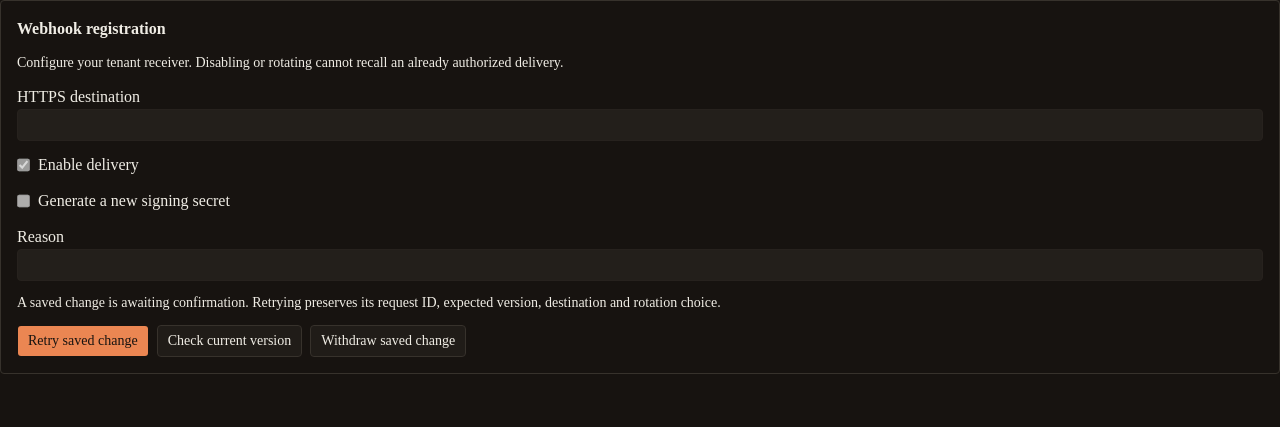
it: keeps an uncertain command when the current version has not advanced
Expected: the button "Retry saved change" is enabled, [17,325,149,357]
Click the button "Check current version".
click(229, 341)  # box [157,325,302,357]
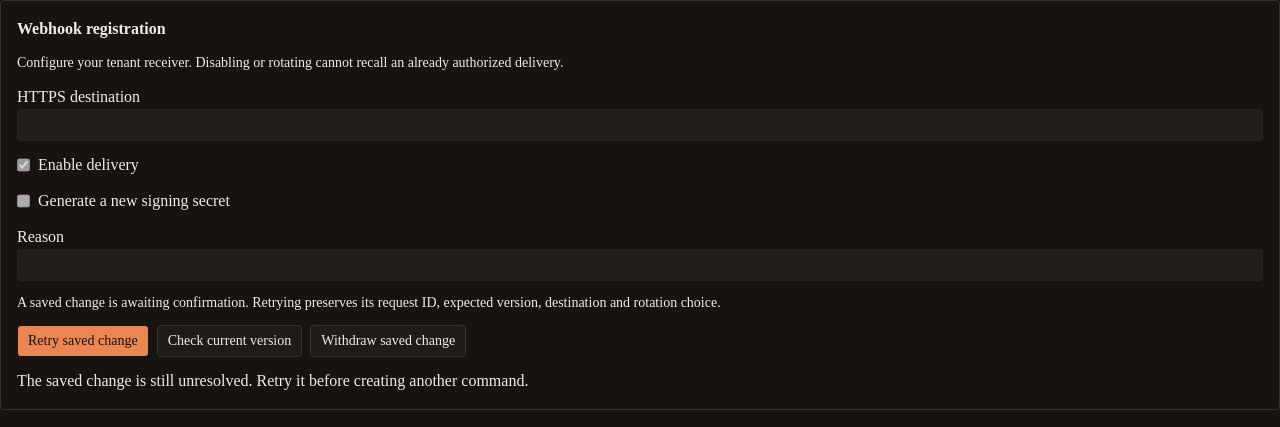
Now the text "still unresolved" is shown, box [17,372,528,389]
